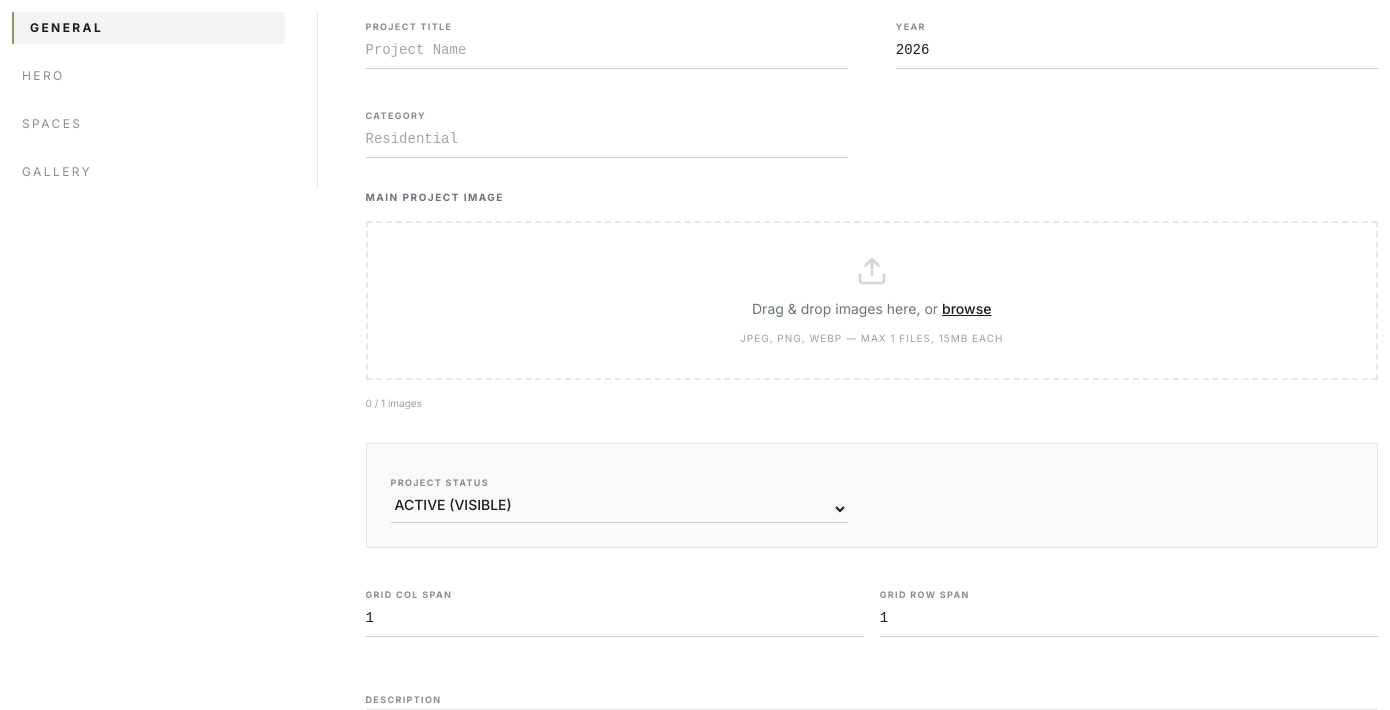
Test: ProjectForm › removes a hero section when the trash icon is clicked
This screenshot has width=1390, height=710.
Click the button "hero" at (43, 76), box [12,60,284,92]
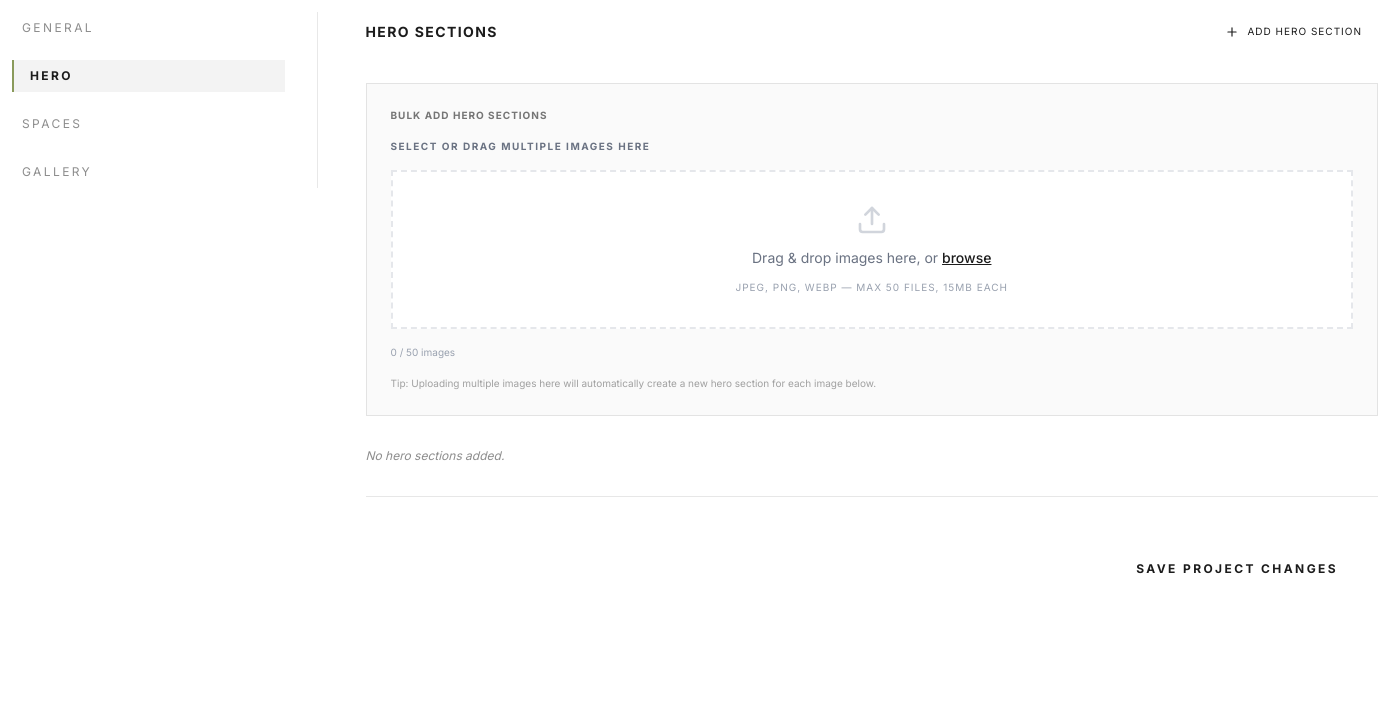
Click the button "Add Hero Section" at (1294, 32), box [1210,12,1378,51]
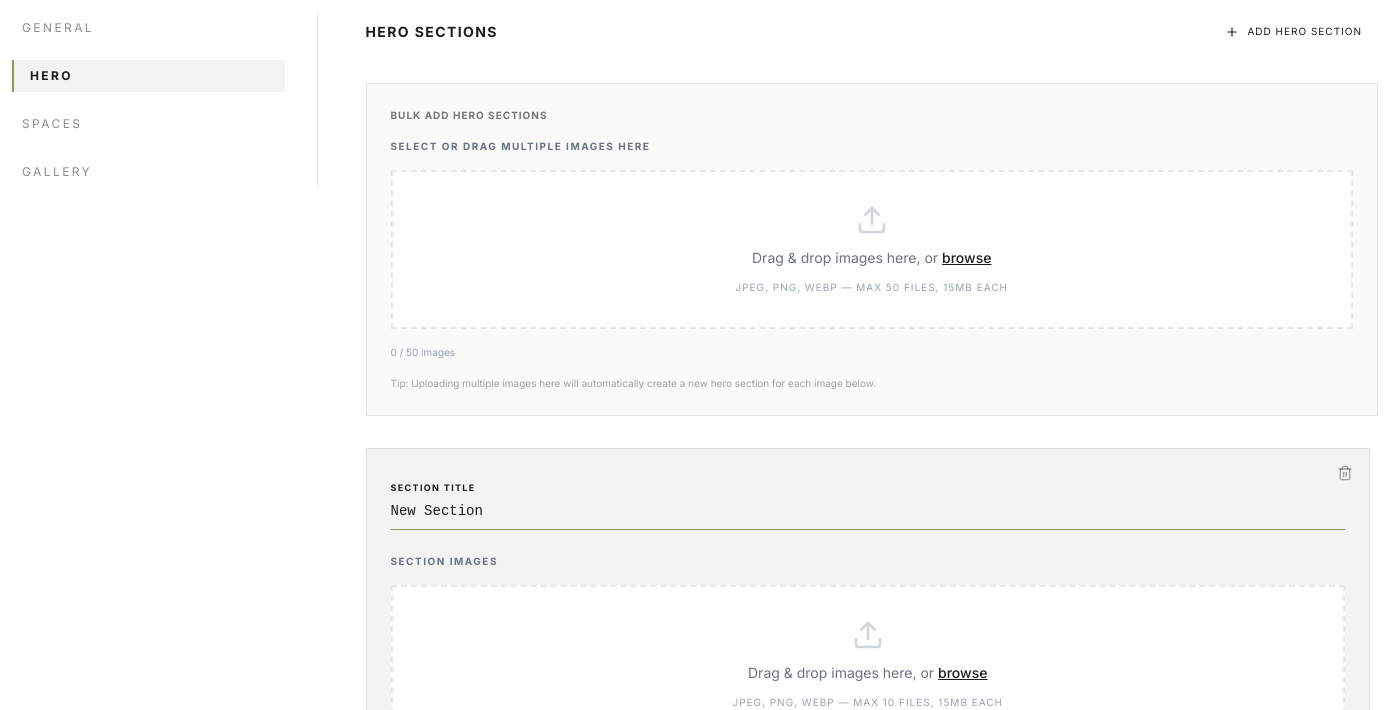
Expected: the number of fields labelled "Section Title" is 1, [390,501,1345,530]
Click the button titled "Remove section" at (1345, 473), box [1337,465,1353,481]
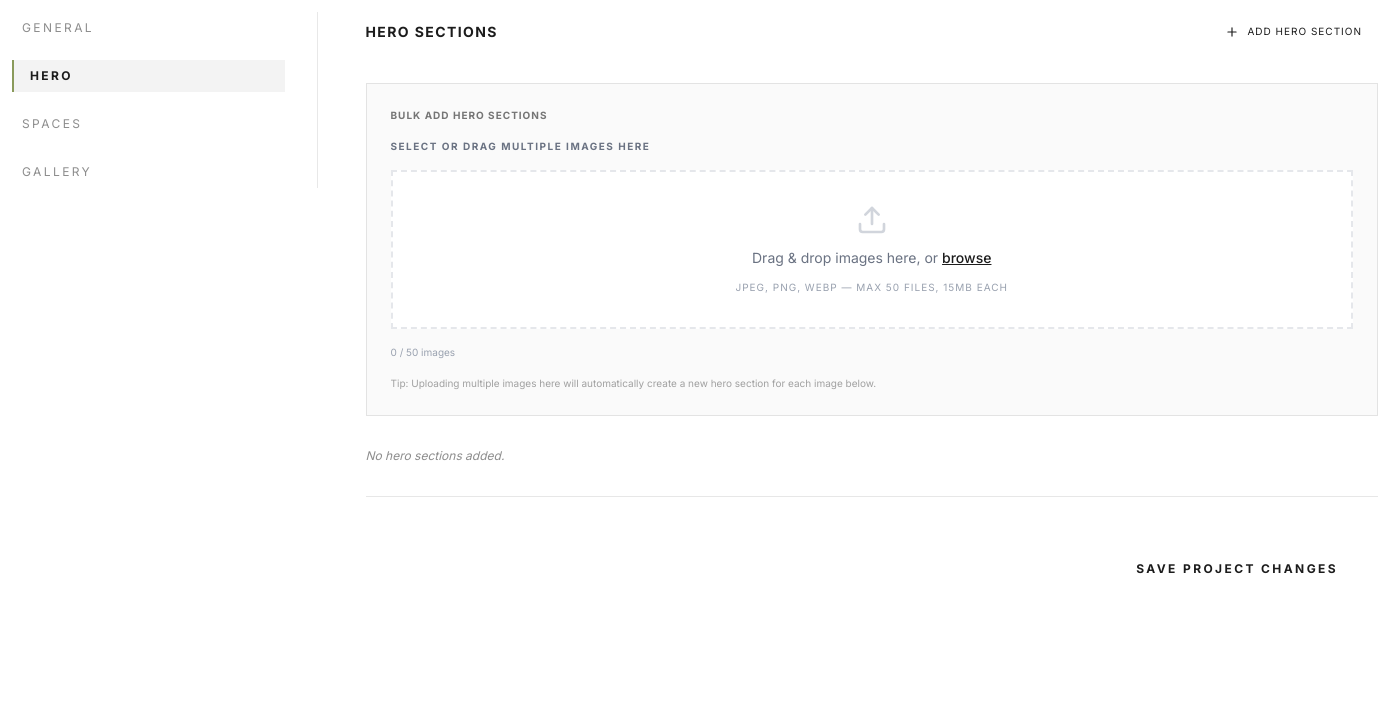
Expected: the label labelled "Section Title" is gone
